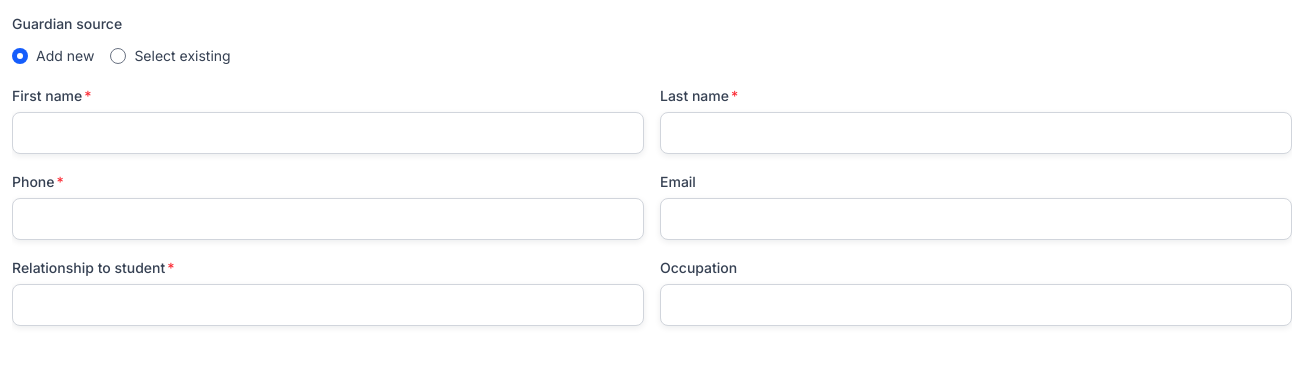
GuardianPicker › lists guardians only once the search reaches five characters
Click the radio button labelled "Select existing".
click(118, 56)  # box [110,48,126,64]
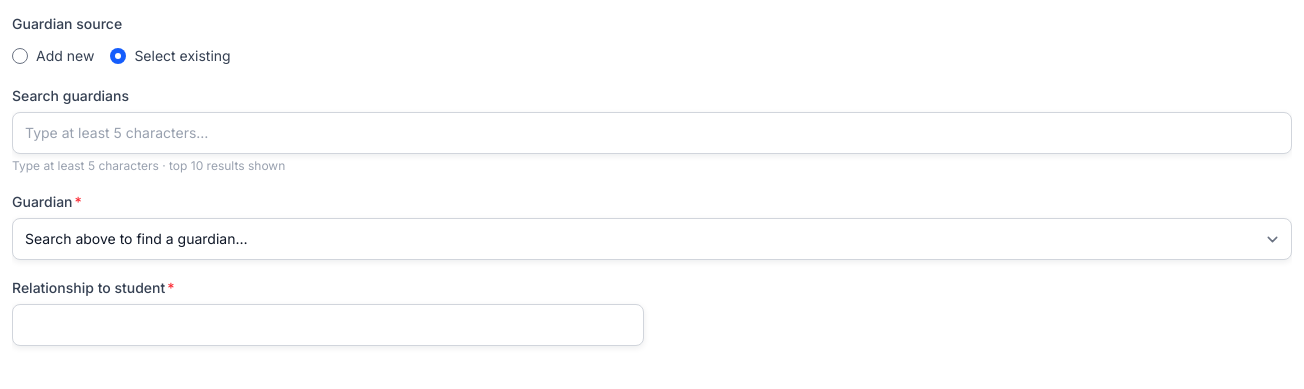
Type "Mar" into the search field labelled "Search guardians".
click(652, 133); type("Mar")  # box [12,112,1292,154]
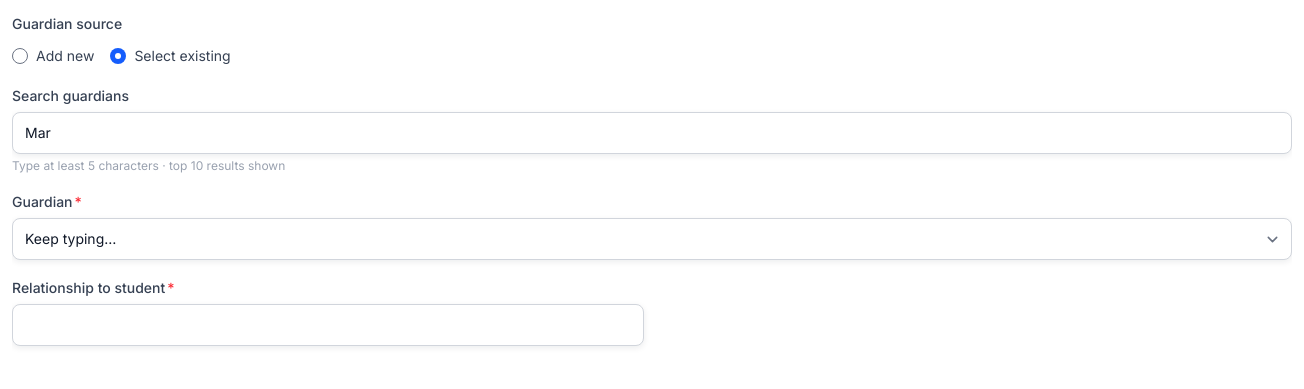
Check: the option "Smith, Maria" is not shown
Replace the text in the search field labelled "Search guardians" with "Maria" at (652,133), box [12,112,1292,154]
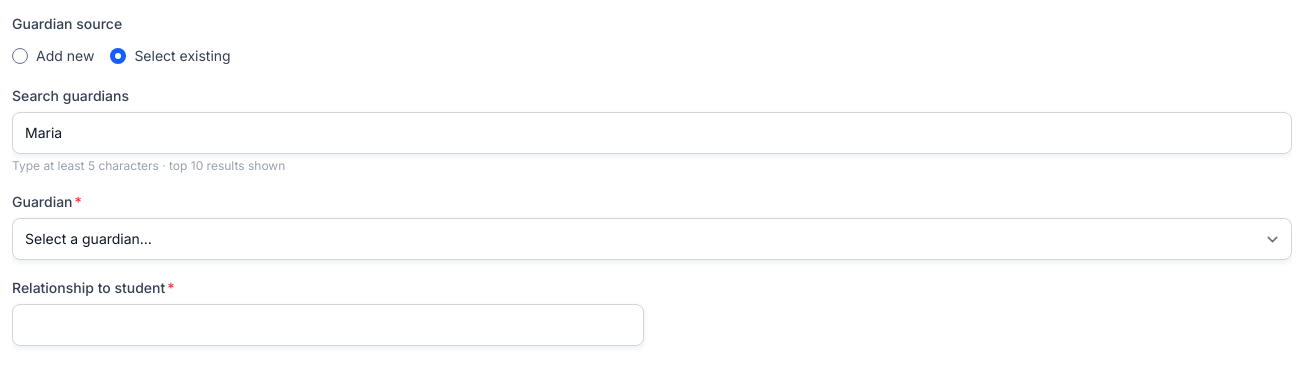
Select "Smith, Maria — 07700 900000" in the dropdown labelled "Guardian*" at (652,239), box [12,218,1292,260]
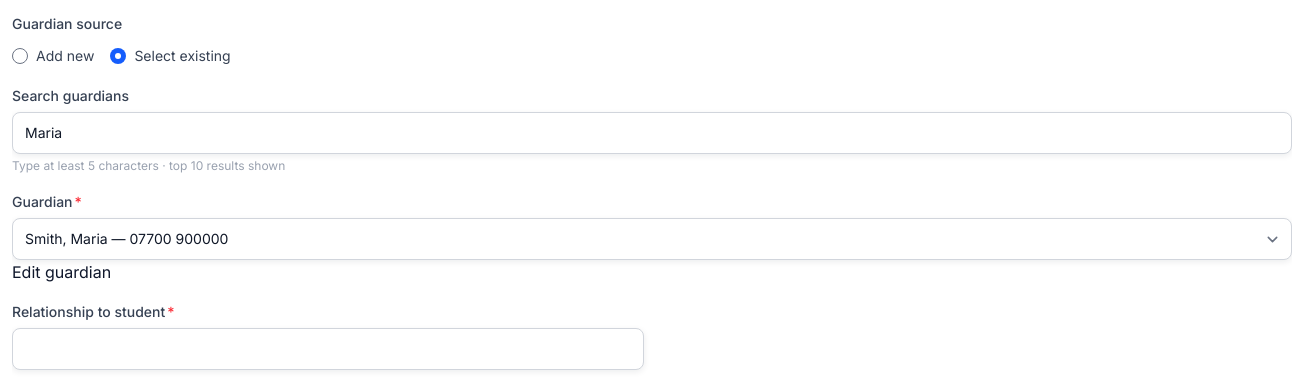
Check: the link "Edit guardian" is shown, box [12,262,111,282]
